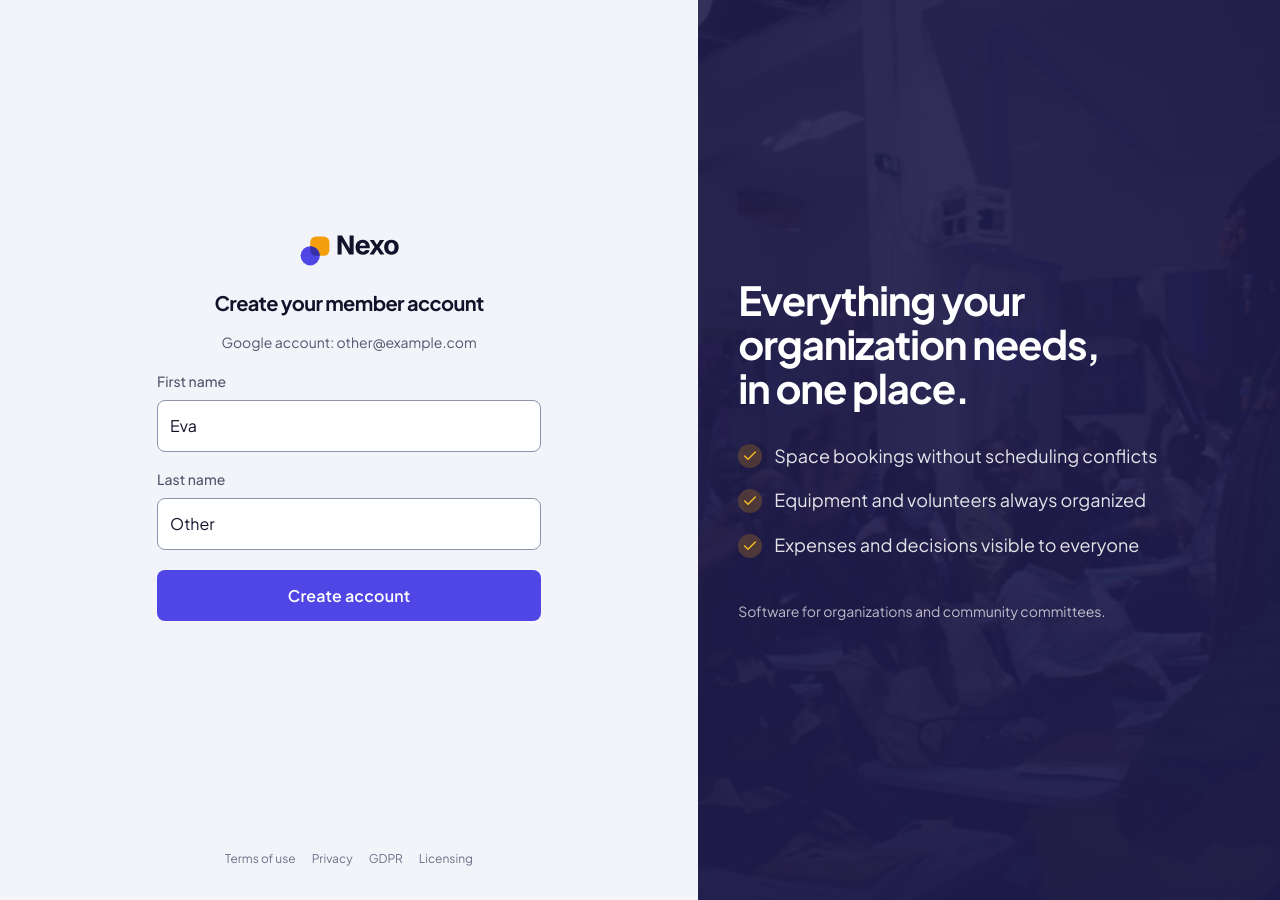
Test: ActivateAccountForm › given the Google account is not the invited one, when activating, then it says to use the invited account
The image size is (1280, 900).
Expected: the field labelled "First name" is shown, [157, 400, 541, 452]
What coordinates should you click on to do the following:
click the button "Create account"
I would click on:
 (349, 596)
Its box is [157, 570, 541, 621].
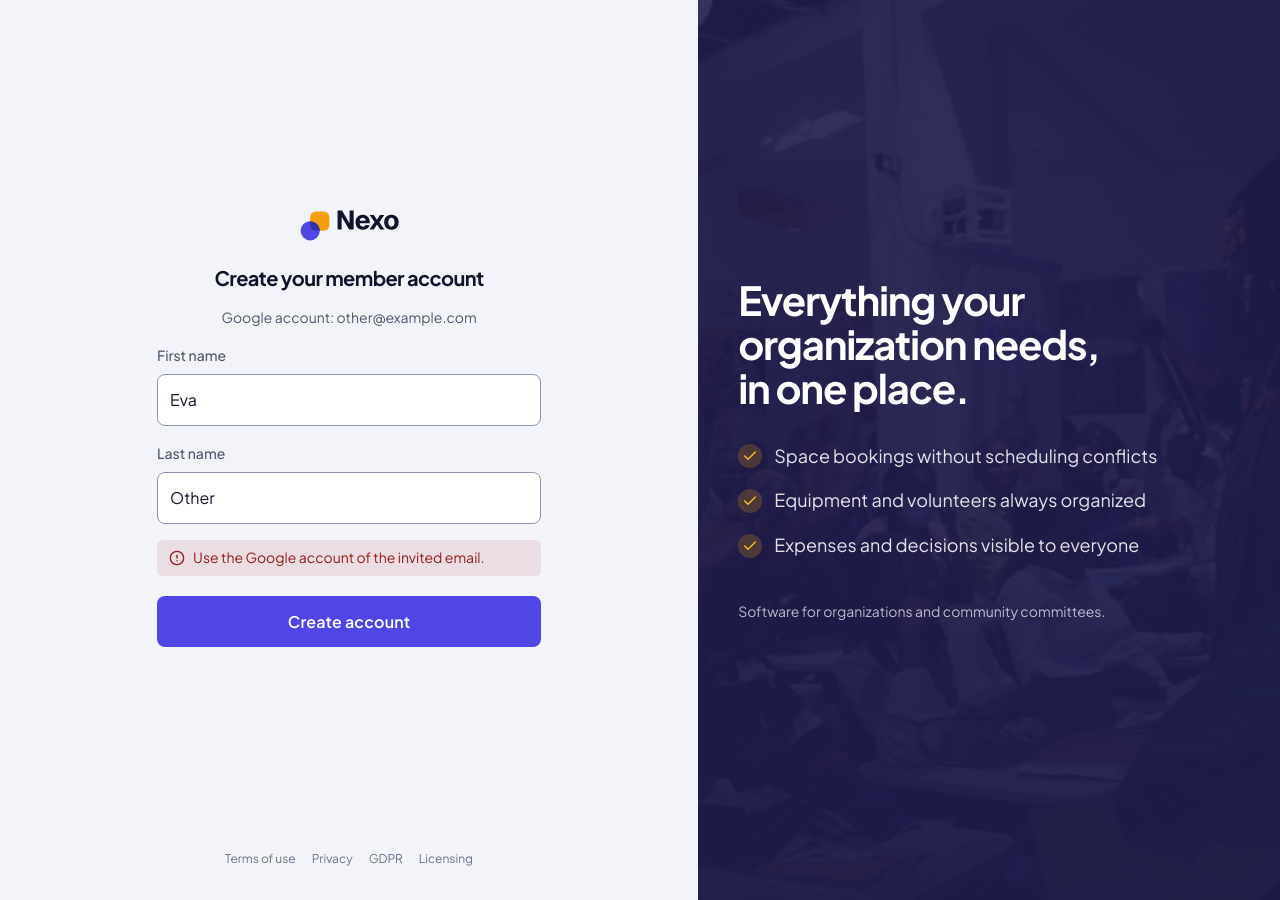
Now the message reads "Use the Google account of the invited email.", box [193, 548, 485, 566]
